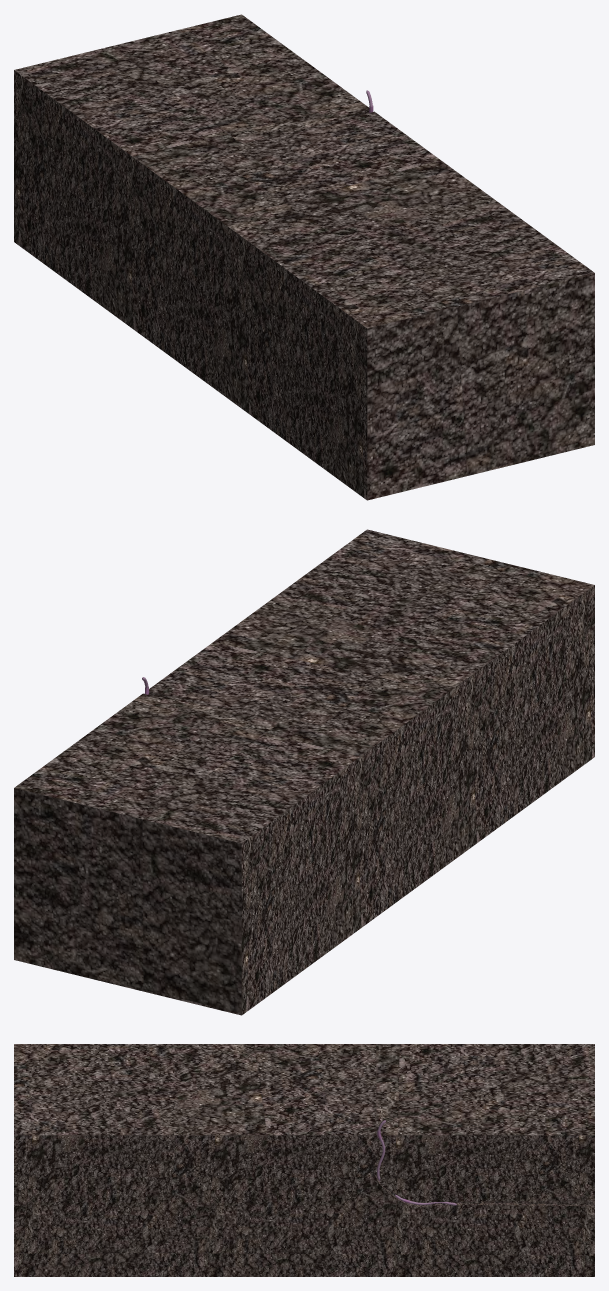
The model's file is earthworm in soil.fbx.
3 views of the same model, one above another, from view 1: azimuth 30°, elevation 25°; view 2: azimuth 150°, elevation 25°; view 3: azimuth 270°, elevation 25° (orthographic). The views are drawn at different scales.
Parts seen in each view (by area): view 1: pCube2; view 2: pCube2; view 3: pCube2.
Part boxes in pixels (<box>): pCube2: <box>14,14,594,500</box>; pCube2: <box>14,529,594,1015</box>; pCube2: <box>14,1044,594,1276</box>.
Bounding box in the file's own units: 22.78 × 17.99 × 60.72.
